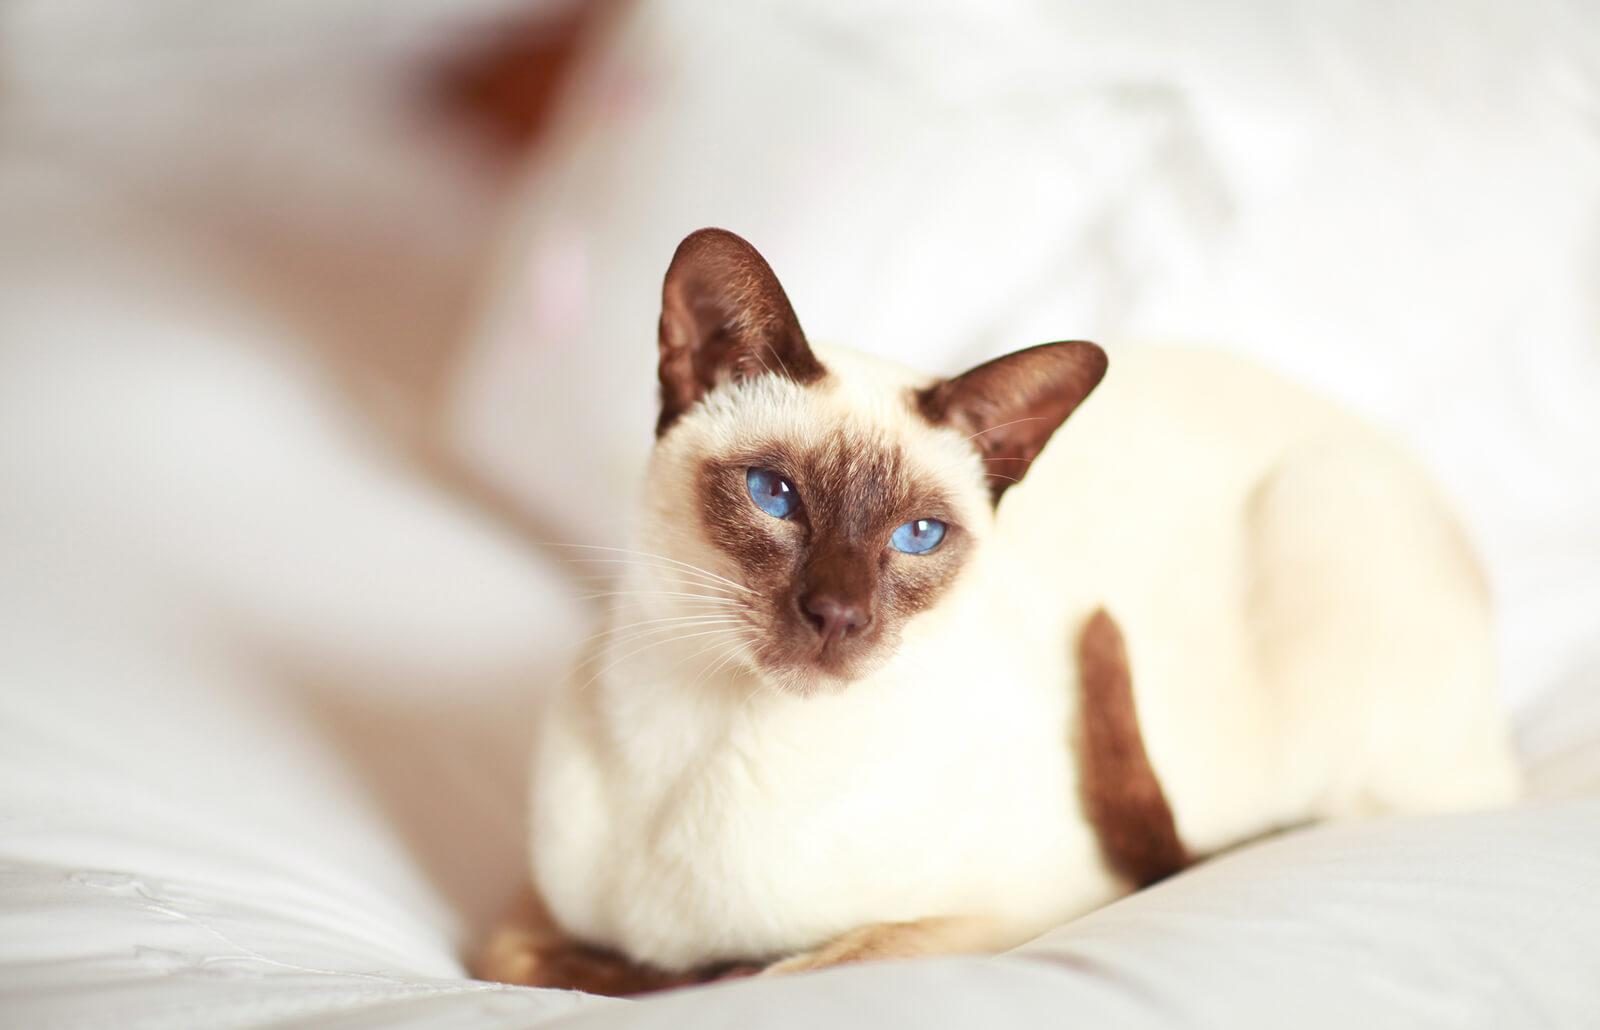siamese: (624, 213, 1118, 721)
